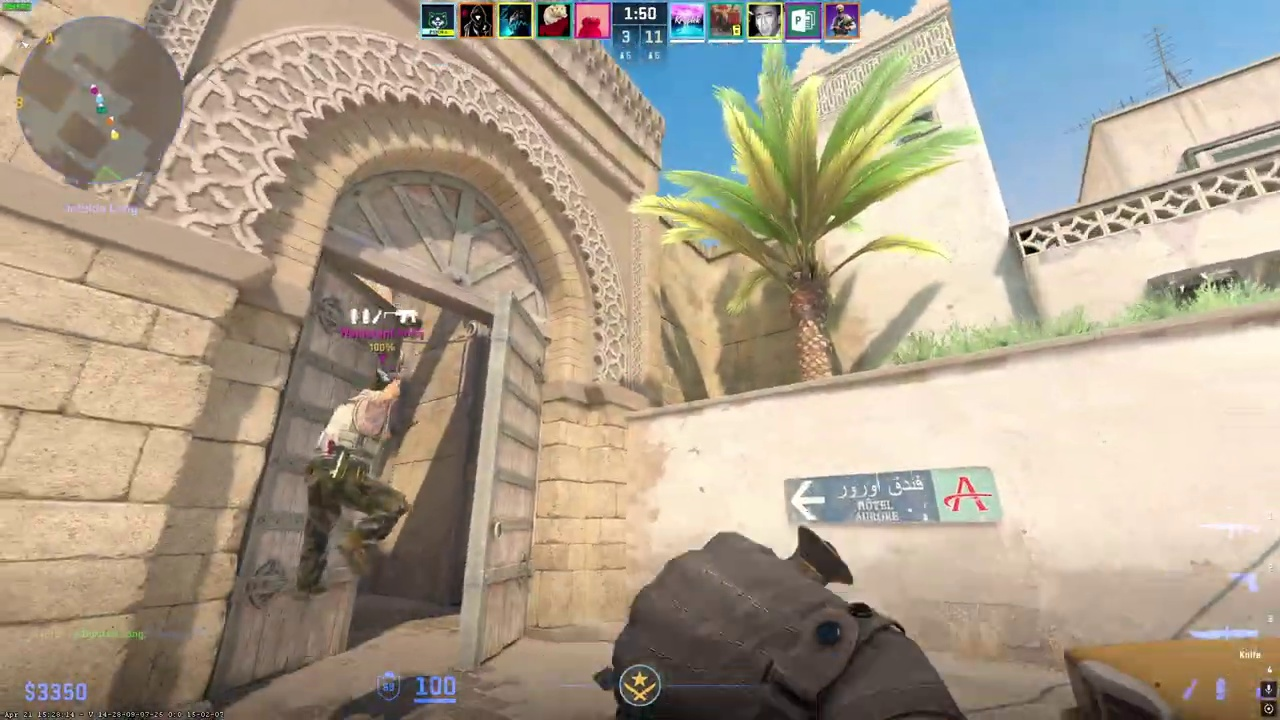Terrorist: (293, 368, 411, 601)
